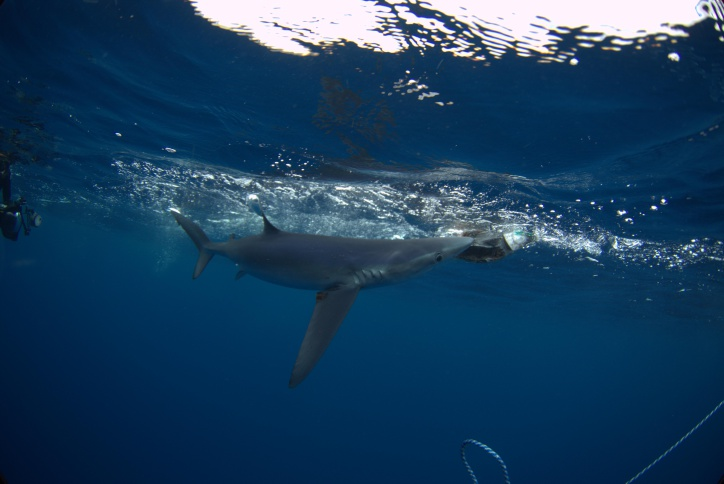Azul: (153, 197, 471, 393)
